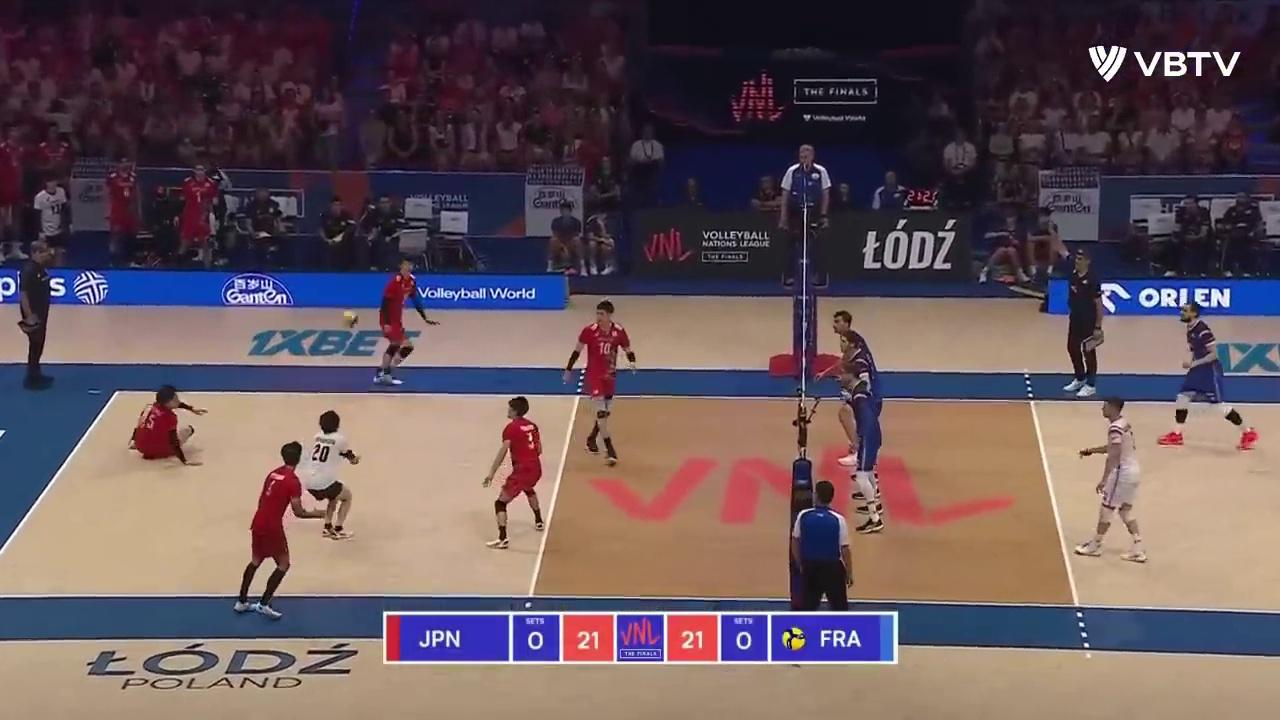ball: (337, 310, 361, 328)
